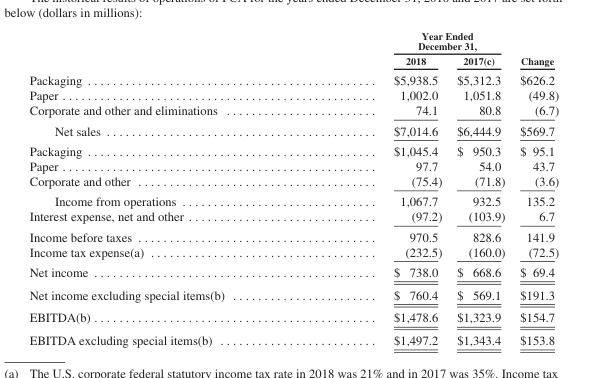table: (28, 29, 558, 346)
table column: (28, 29, 308, 346), (308, 29, 448, 346), (448, 29, 511, 346), (511, 29, 558, 346)
table column header: (28, 29, 558, 69)
table row: (28, 29, 558, 52), (28, 305, 558, 328), (28, 261, 558, 283), (28, 283, 558, 305), (28, 120, 558, 140), (28, 69, 558, 87), (28, 102, 558, 120), (28, 140, 558, 158), (28, 190, 558, 208), (28, 208, 558, 226), (28, 243, 558, 261), (28, 328, 558, 346), (28, 52, 558, 69), (28, 173, 558, 190), (28, 226, 558, 243), (28, 87, 558, 102), (28, 158, 558, 173)
table spanning cell: (308, 29, 511, 52), (511, 29, 558, 69)
